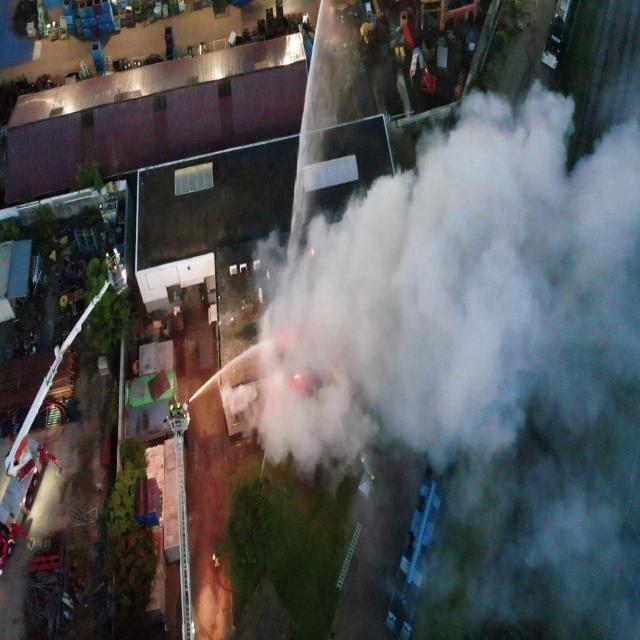Fire: (294, 374, 301, 379), (311, 250, 314, 256)
Smoke: (222, 56, 640, 640)
